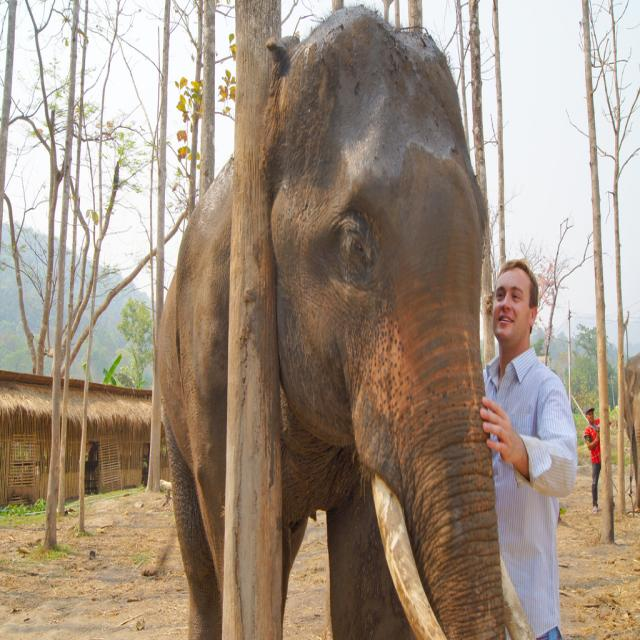elephant: (153, 28, 536, 640)
